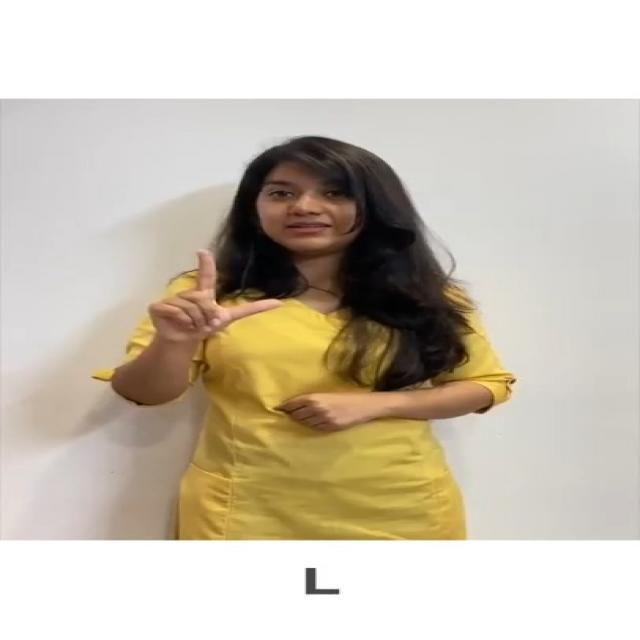L: (136, 241, 298, 358)
